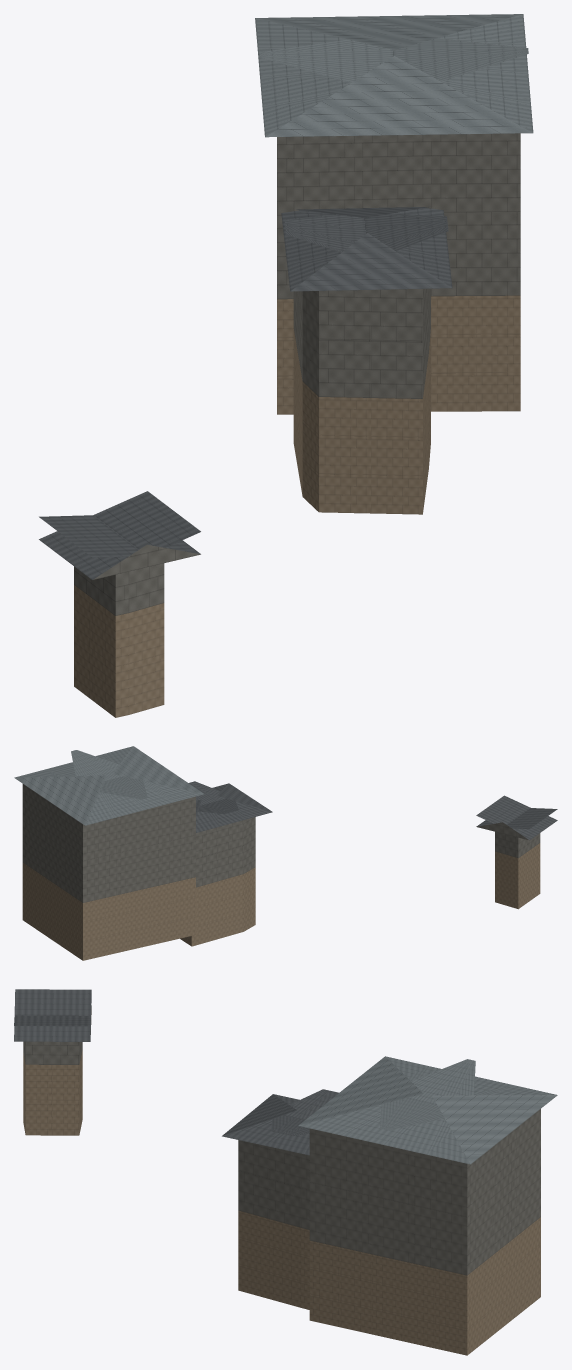
Rendered from bld_c10_26_400.gltf.
3 renders of one model, top to bottom at view 1: azimuth 30°, elevation 25°; view 2: azimuth 150°, elevation 25°; view 3: azimuth 270°, elevation 25°, orthographic. The views are drawn at different scales.
Visible parts, largest first — view 1: bld_c10_26_400; view 2: bld_c10_26_400; view 3: bld_c10_26_400.
Boxes of the visible parts, x1,y1,x2,y2 form: bld_c10_26_400: (39, 14, 533, 717); bld_c10_26_400: (14, 746, 557, 960); bld_c10_26_400: (14, 989, 557, 1355).
Bounding box in the file's own units: 35.09 × 14.8 × 31.4.
5 materials, 5 textured.
